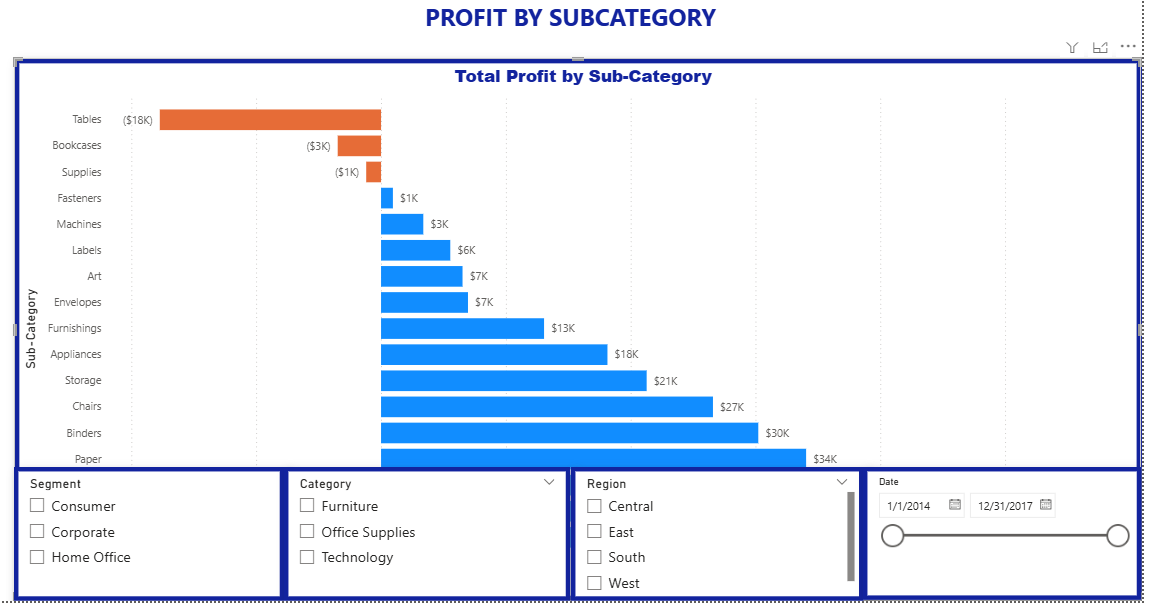

The page's visual inventory and layout, read from the dashboard file:
{"tool":"powerbi","page":{"name":"Profit Watch","canvas":[1280,720],"ordinal":5},"visuals":[{"type":"clusteredBarChart","fields":{"Category":["Orders.Sub-Category"],"Y":["Dates.Total Profit"]},"box":[15.4,110.5,1264.6,609.2],"z":0},{"type":"textbox","box":[0,0,1280,82.2],"z":1000},{"type":"slicer","fields":{"Values":["Orders.Segment"]},"box":[5.1,569.3,313.6,150.4],"z":2000},{"type":"slicer","fields":{"Values":["Orders.Category"]},"box":[318.7,569.3,321.3,150.4],"z":3000},{"type":"slicer","fields":{"Values":["Orders.Region"]},"box":[640,569.3,327.7,150.4],"z":4000},{"type":"slicer","fields":{"Values":["Dates.Date"]},"box":[967.7,569.3,312.3,149.1],"z":5000},{"type":"textbox","box":[0,41.5,1279.6,51.6],"z":6000}]}

Visuals, with their boxes on the page's 1280x720 design canvas (x1, y1, x2, y2). These are canvas units, not pixel positions in the 1153x607 screenshot, which may show the page scaled, cropped or inside an application window:
clusteredBarChart - Orders.Sub-Category x Dates.Total Profit: x1=15 y1=110 x2=1280 y2=720
textbox: x1=0 y1=0 x2=1280 y2=82
slicer - Orders.Segment: x1=5 y1=569 x2=319 y2=720
slicer - Orders.Category: x1=319 y1=569 x2=640 y2=720
slicer - Orders.Region: x1=640 y1=569 x2=968 y2=720
slicer - Dates.Date: x1=968 y1=569 x2=1280 y2=718
textbox: x1=0 y1=42 x2=1280 y2=93
